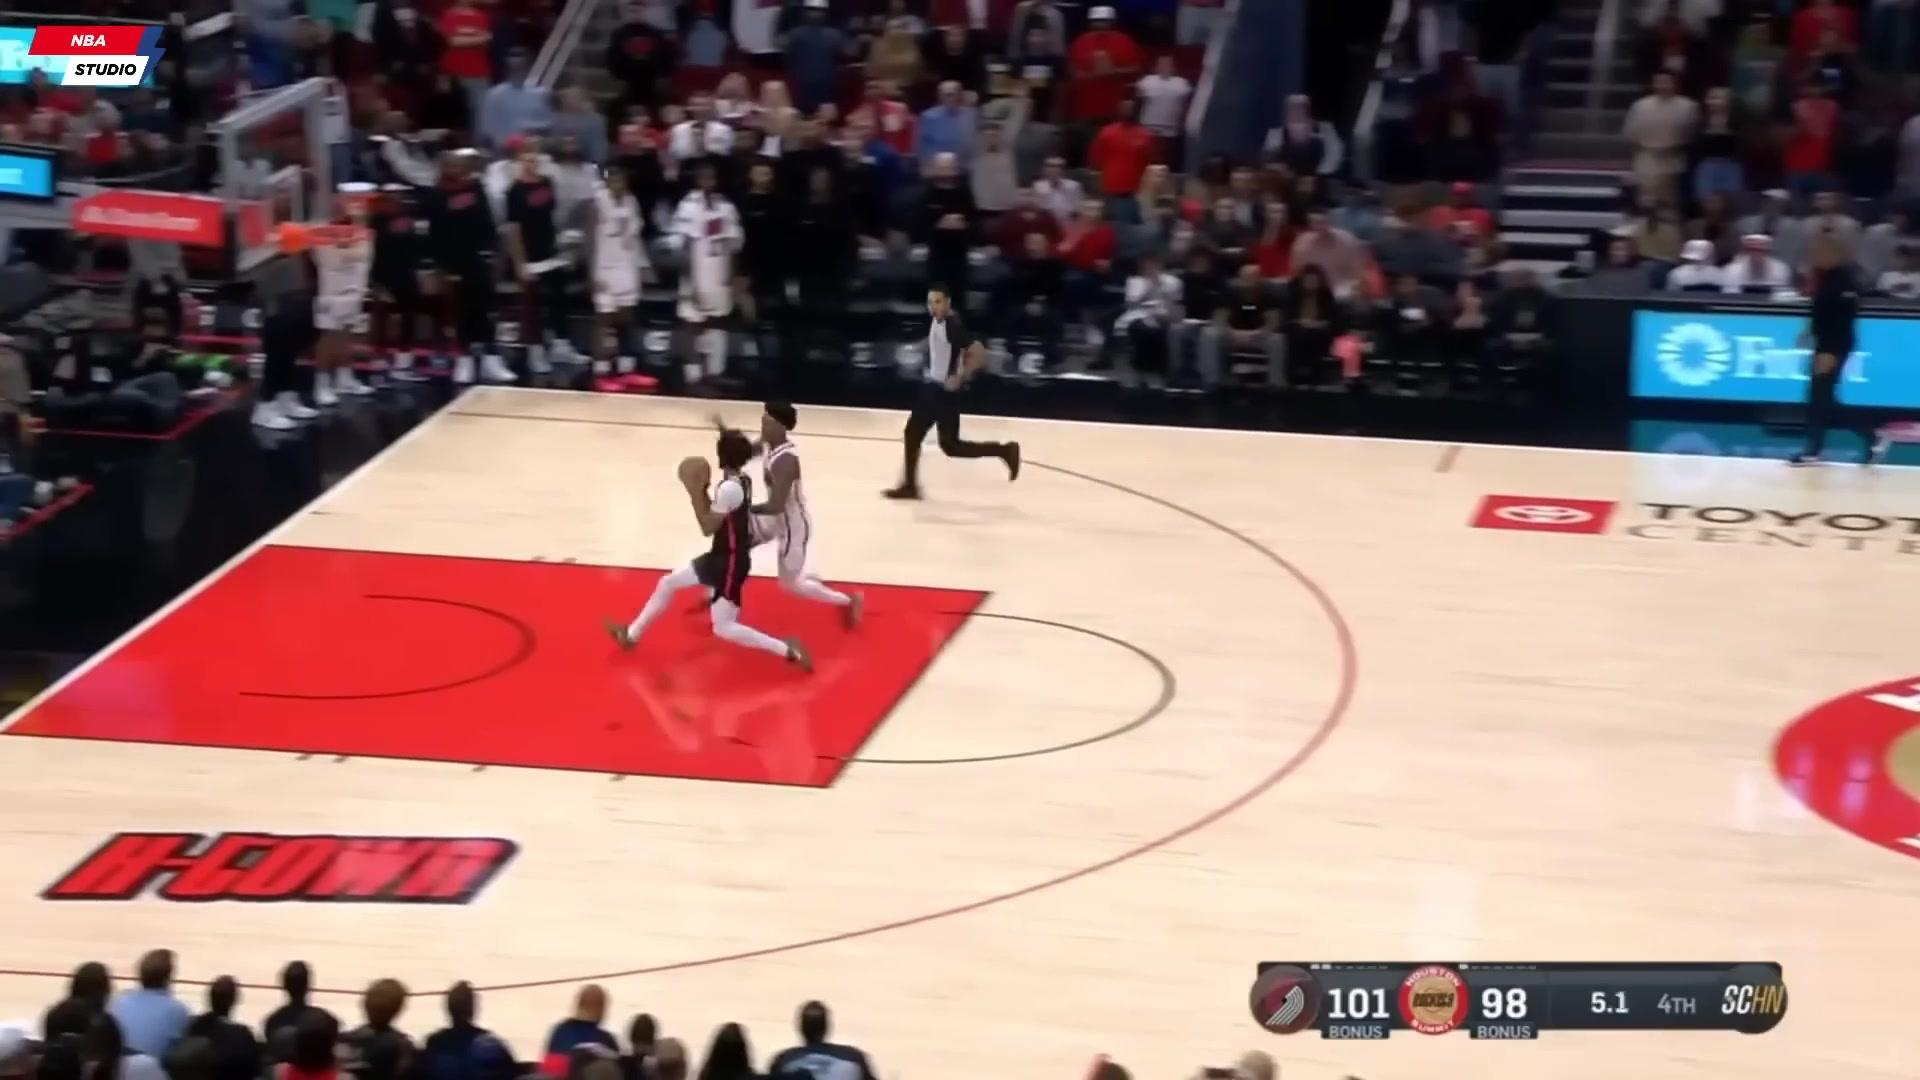no_foul: (588, 373, 882, 677)
